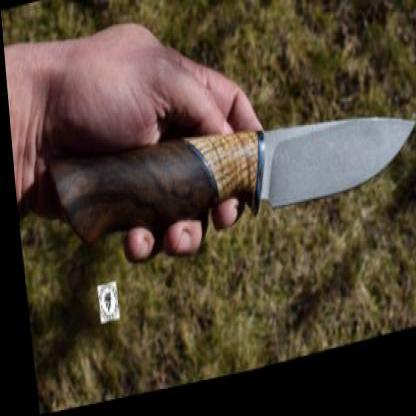knife: (100, 36, 415, 273)
